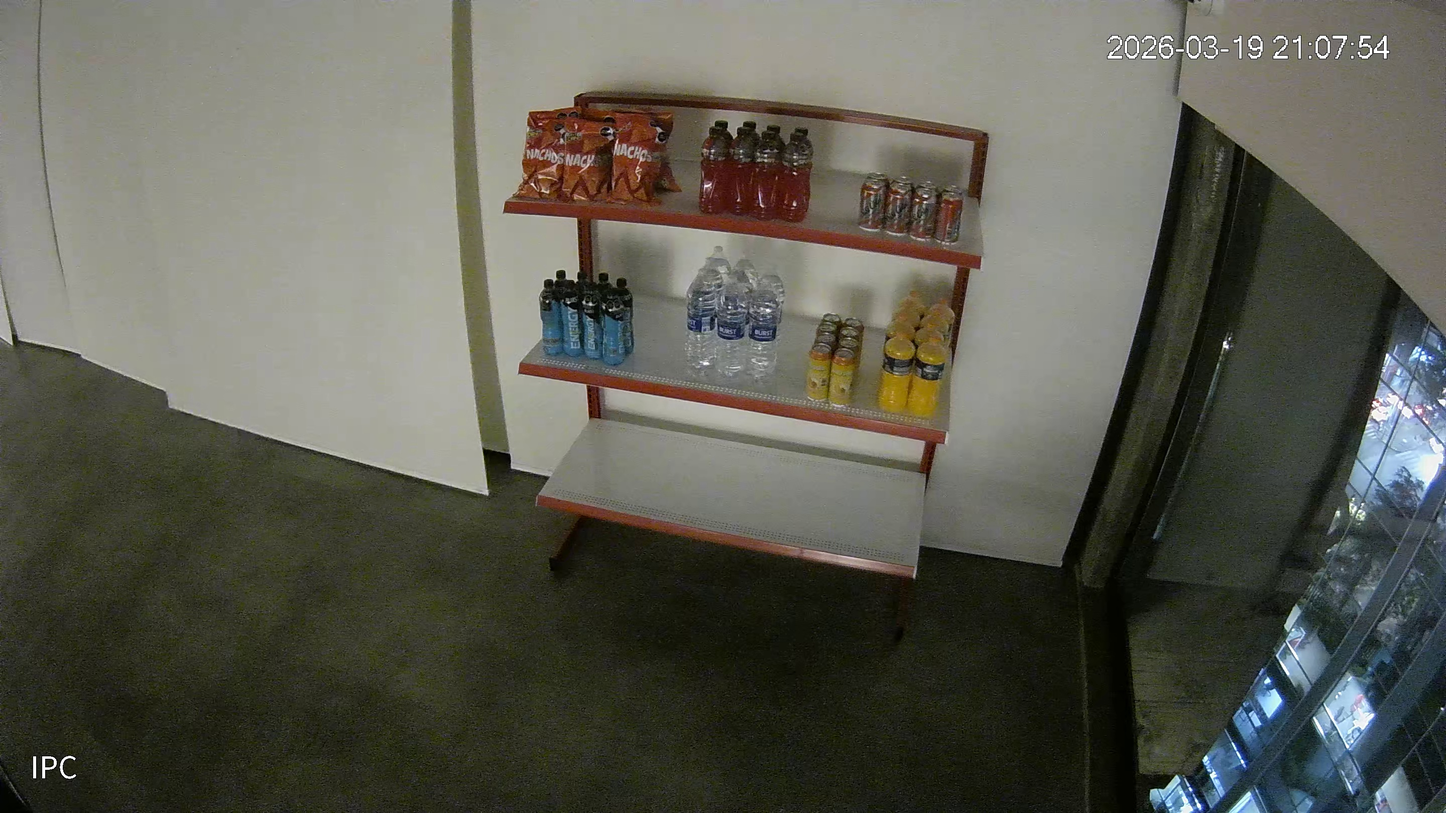agua_burst: (684, 266, 717, 379), (744, 278, 779, 377), (700, 249, 728, 289)
burst_energetica_roja: (774, 133, 808, 221), (696, 127, 730, 214), (749, 131, 777, 218)
burst_energy: (536, 278, 561, 358), (616, 278, 634, 354), (597, 269, 613, 299)
nachos_naturasol: (608, 116, 662, 205), (509, 114, 559, 201), (562, 119, 605, 204)
nebraska_mango: (802, 344, 832, 401), (828, 349, 854, 410), (814, 333, 840, 349)
sisi_cola: (931, 191, 965, 247), (883, 176, 910, 235), (856, 178, 885, 228)
sun_paradise_naranja: (884, 307, 917, 340), (922, 318, 951, 348), (927, 296, 951, 324)
